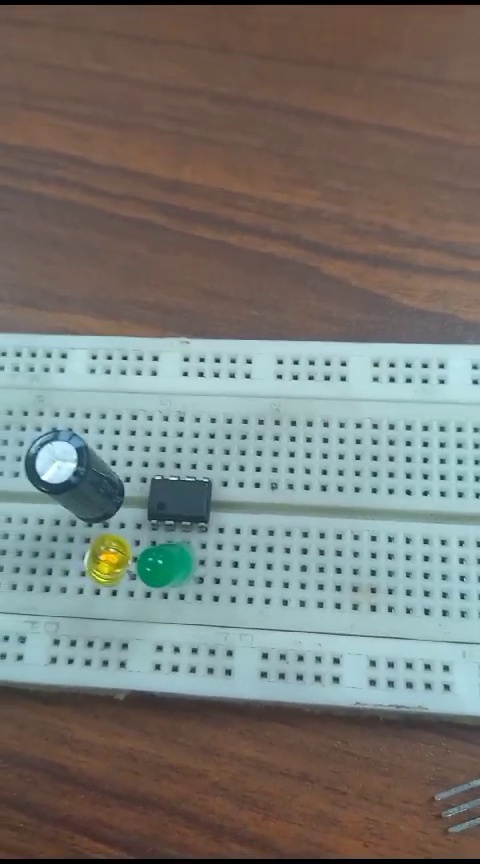IC: (143, 469, 224, 533)
LED: (80, 532, 123, 589), (144, 547, 192, 591)
capacitor: (24, 424, 126, 521)
